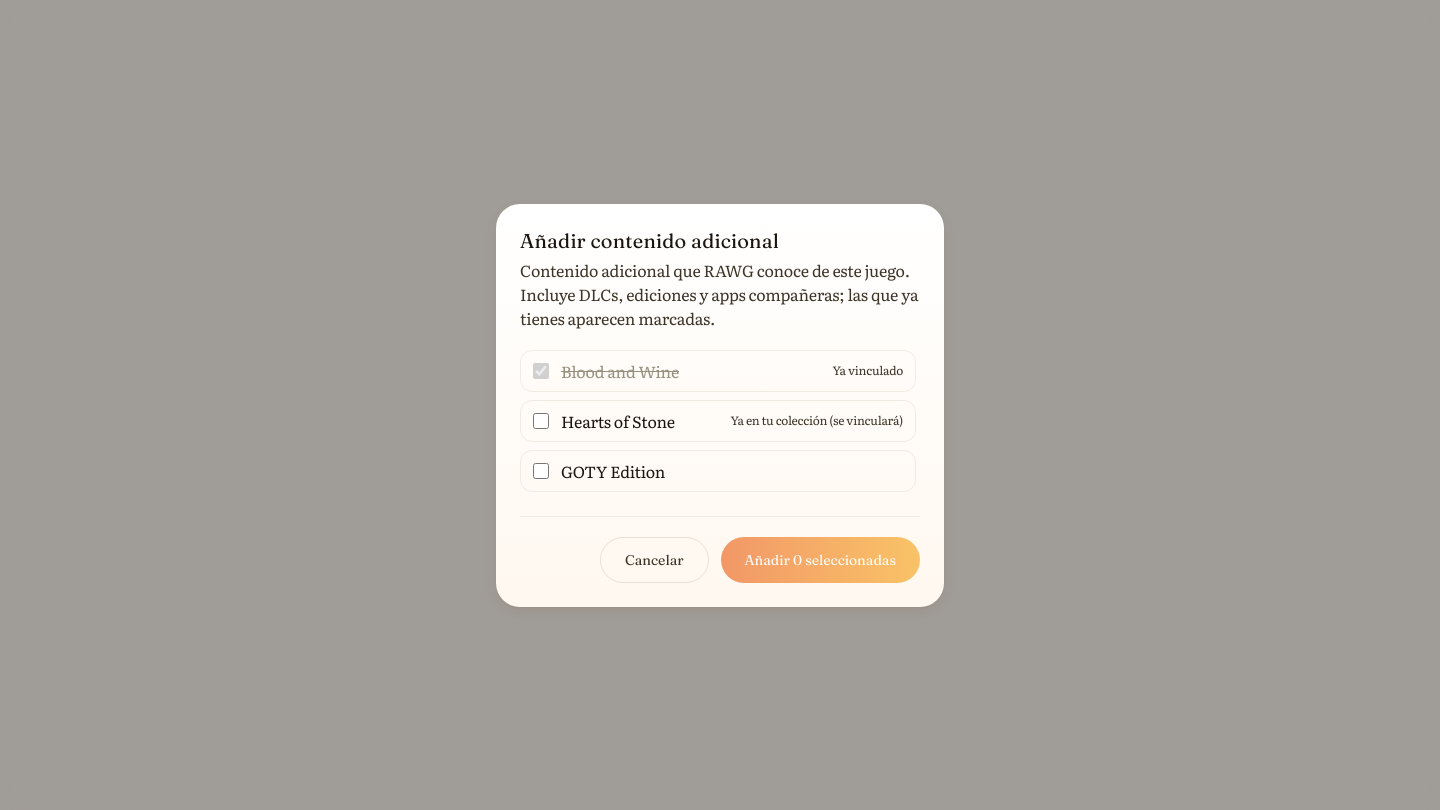
Scenario: AddGameDlcsDialog › en jugando exige la fecha de inicio
Click the checkbox labelled "GOTY Edition" at {"x": 541, "y": 470}, box [533,462,549,478]
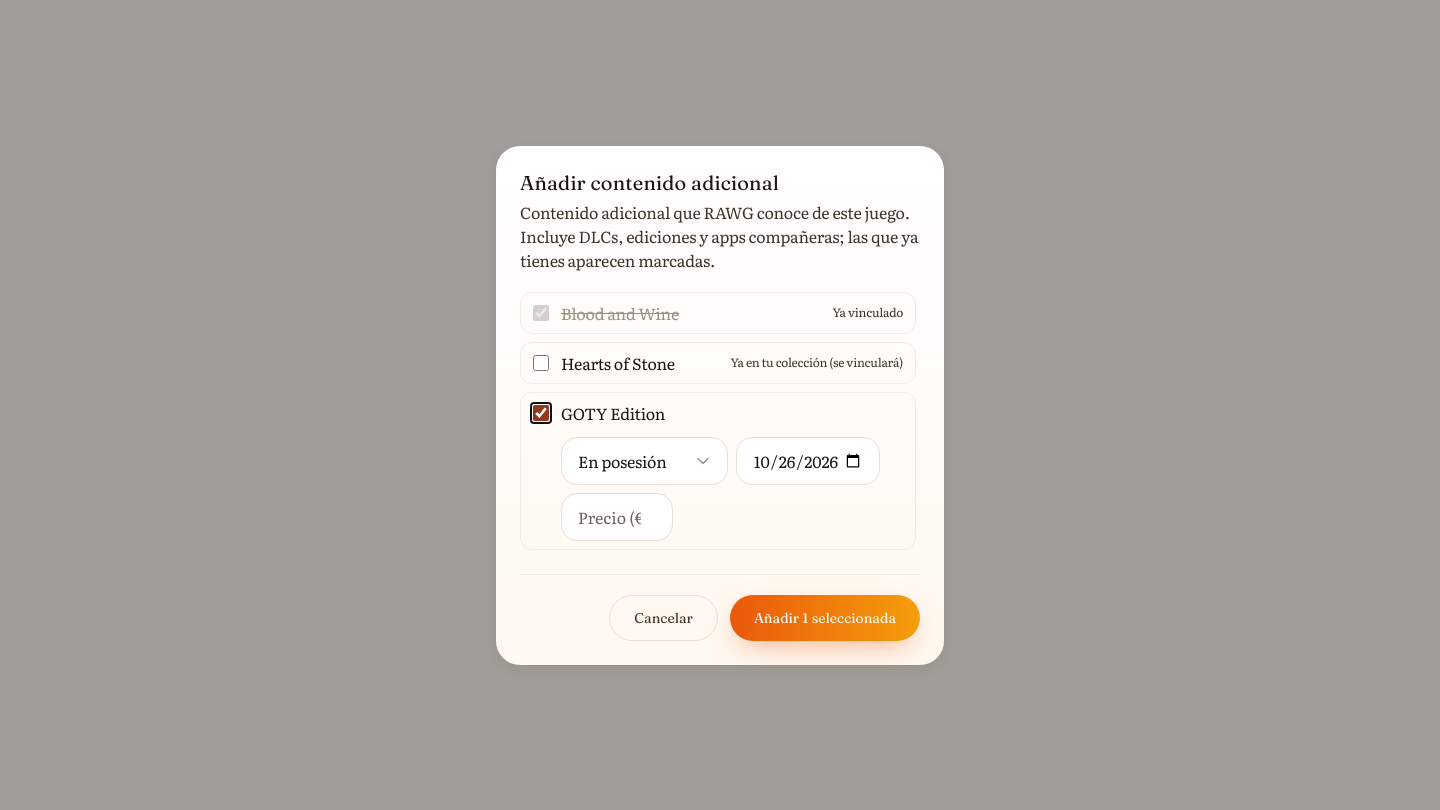
Select "Jugando" in the dropdown named "Estado de GOTY Edition" at {"x": 644, "y": 460}, box [561,436,728,484]
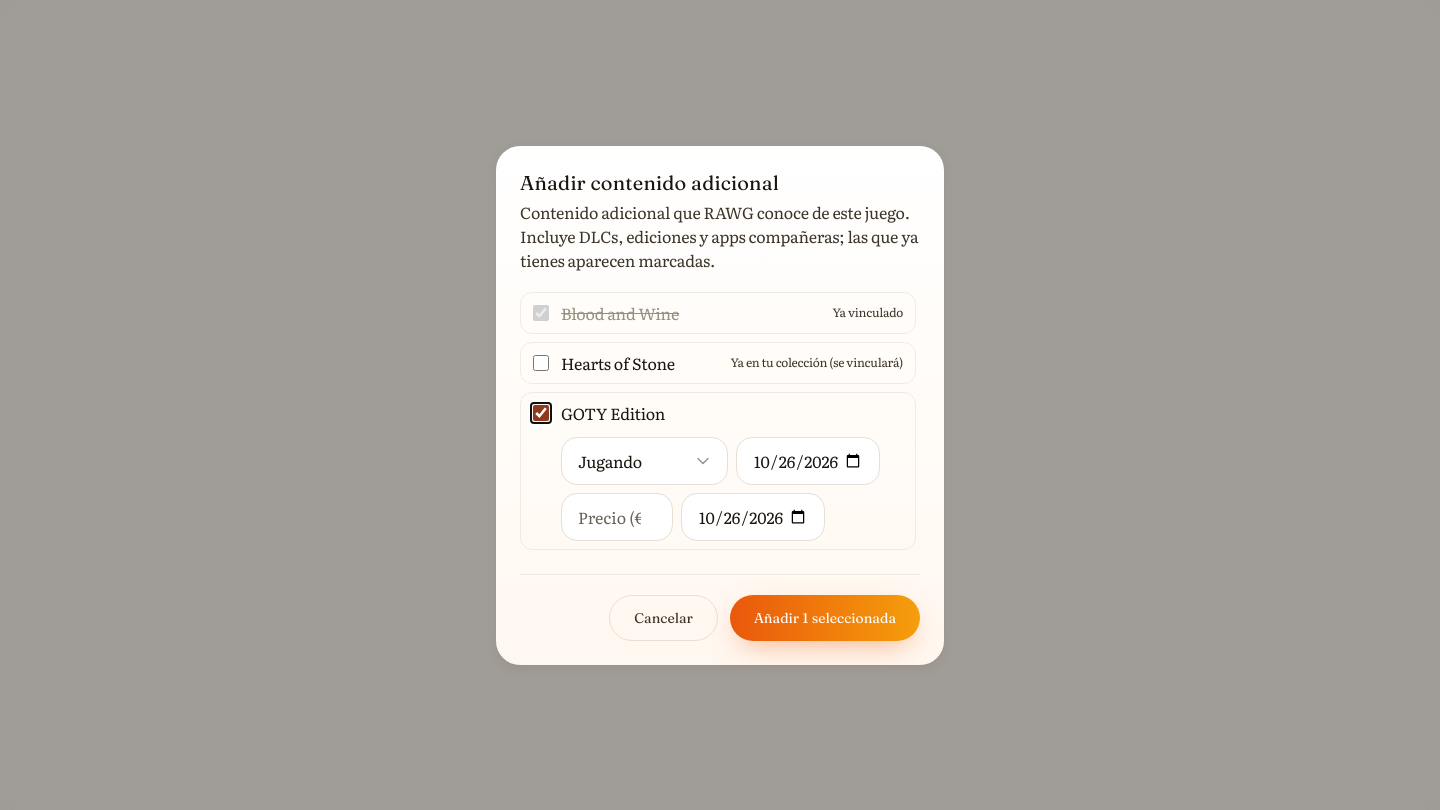
Type "10" into the number field named "Precio de GOTY Edition" at {"x": 617, "y": 516}, box [561,492,673,540]
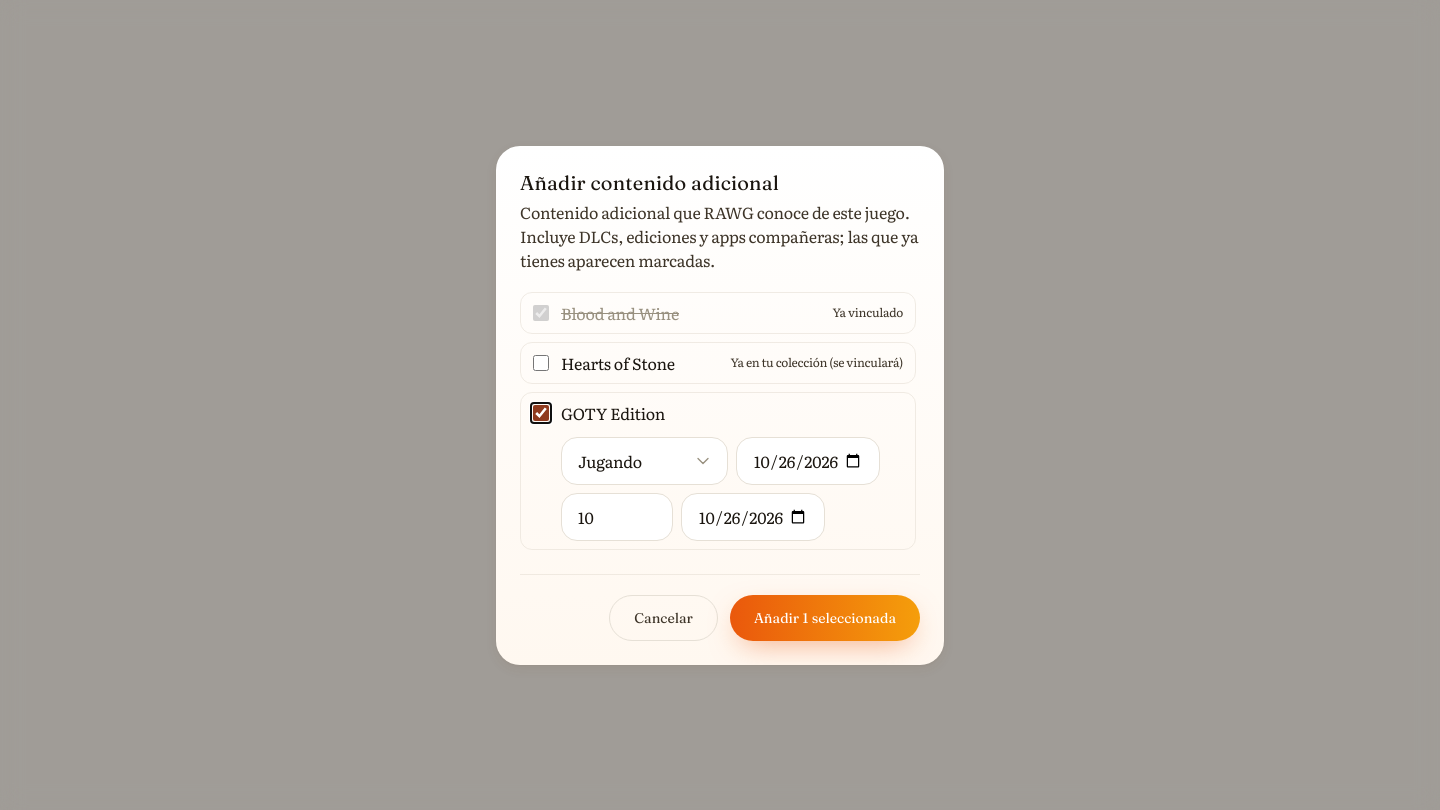
Clear the date field named "Fecha de inicio de GOTY Edition" at {"x": 753, "y": 516}, box [681,492,825,540]
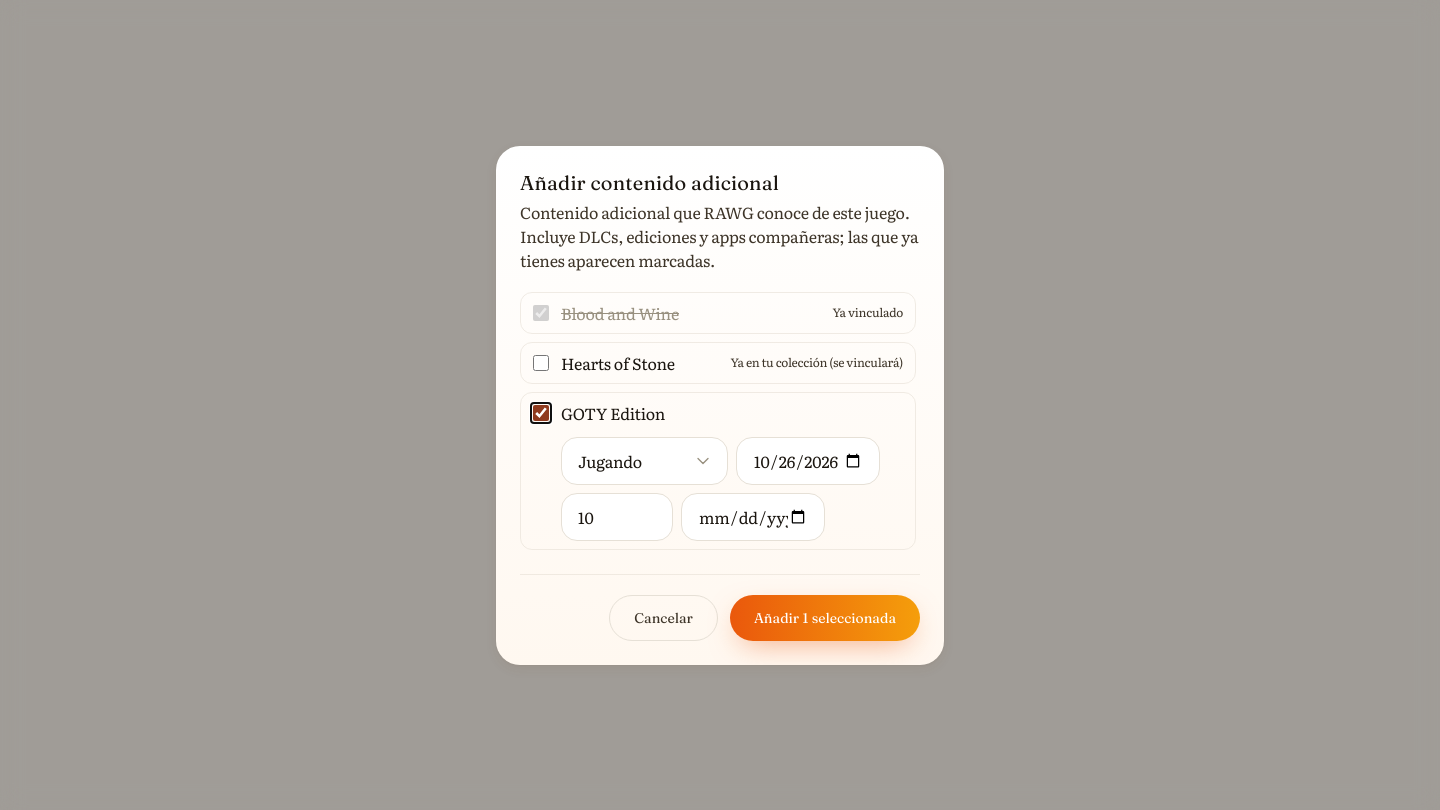
Click the button "Añadir 1 seleccionada" at {"x": 825, "y": 618}, box [730,594,920,640]
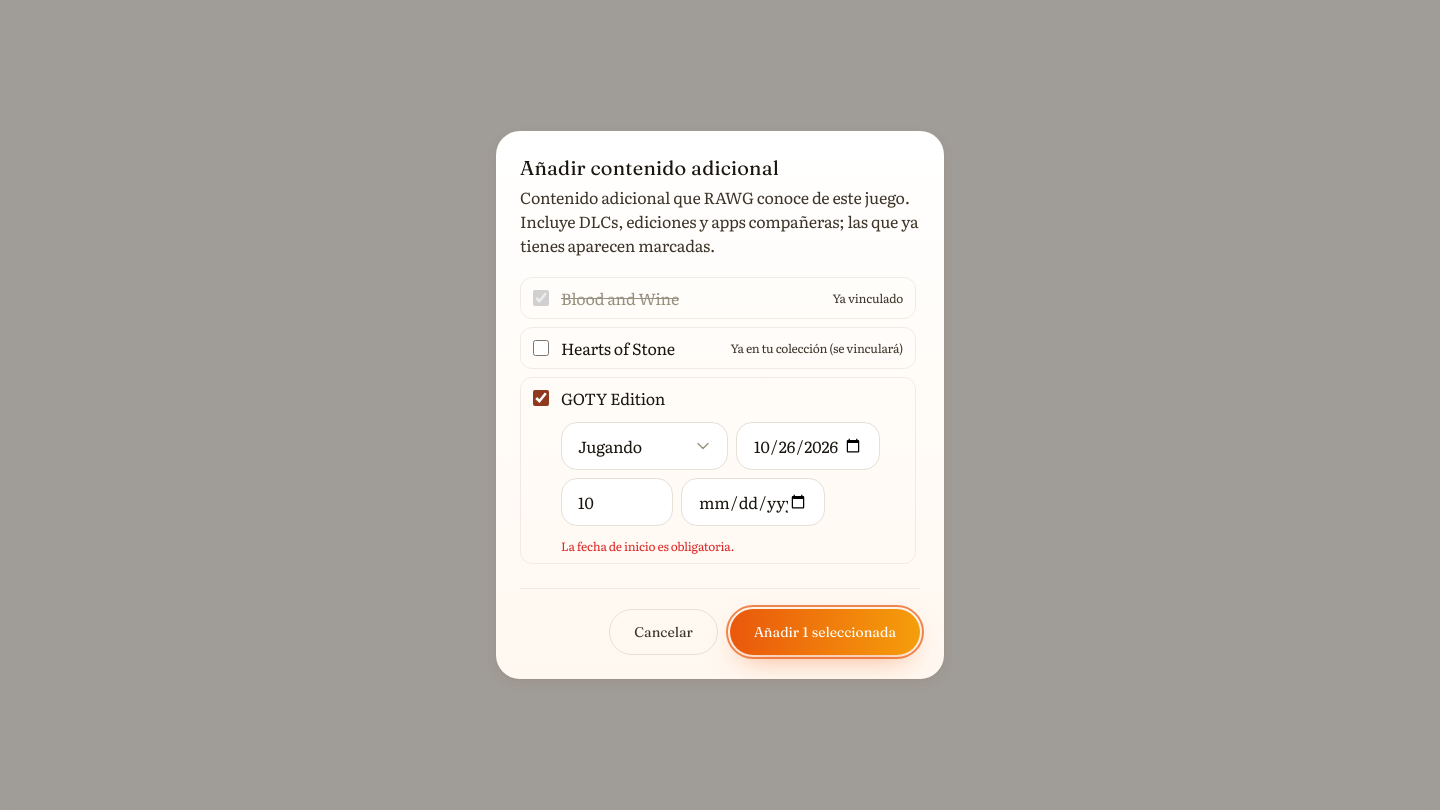
Now the message shows "La fecha de inicio es obligatoria", box [561,537,734,555]
